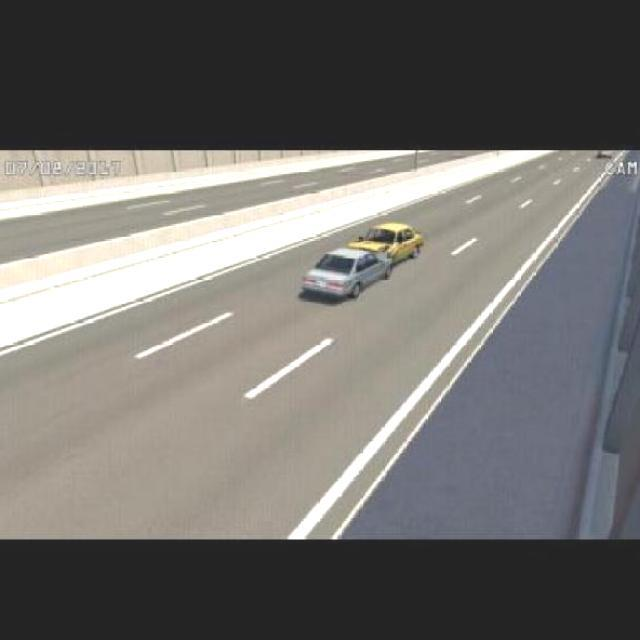accident: (289, 217, 429, 304)
